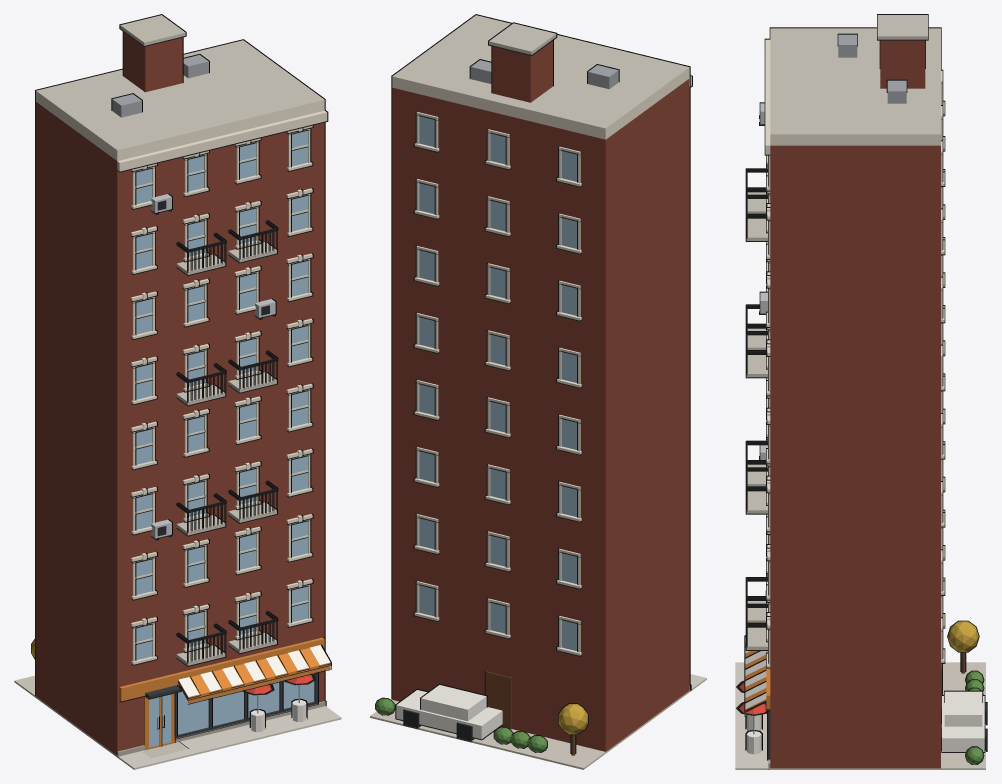
The model's file is Blok_duz_9k_2.fbx.
3 views of the same model, side by side, from view 1: azimuth 30°, elevation 25°; view 2: azimuth 150°, elevation 25°; view 3: azimuth 270°, elevation 25° (orthographic). The views are drawn at different scales.
Visible parts, largest first — view 1: Blok_duz_9k_2; view 2: Blok_duz_9k_2; view 3: Blok_duz_9k_2.
Boxes of the visible parts, x1,y1,x2,y2 form: Blok_duz_9k_2: (14, 14, 341, 769); Blok_duz_9k_2: (370, 14, 706, 769); Blok_duz_9k_2: (735, 14, 987, 769).
Size of the model in its own units: 10.06 by 30.43 by 10.07.
